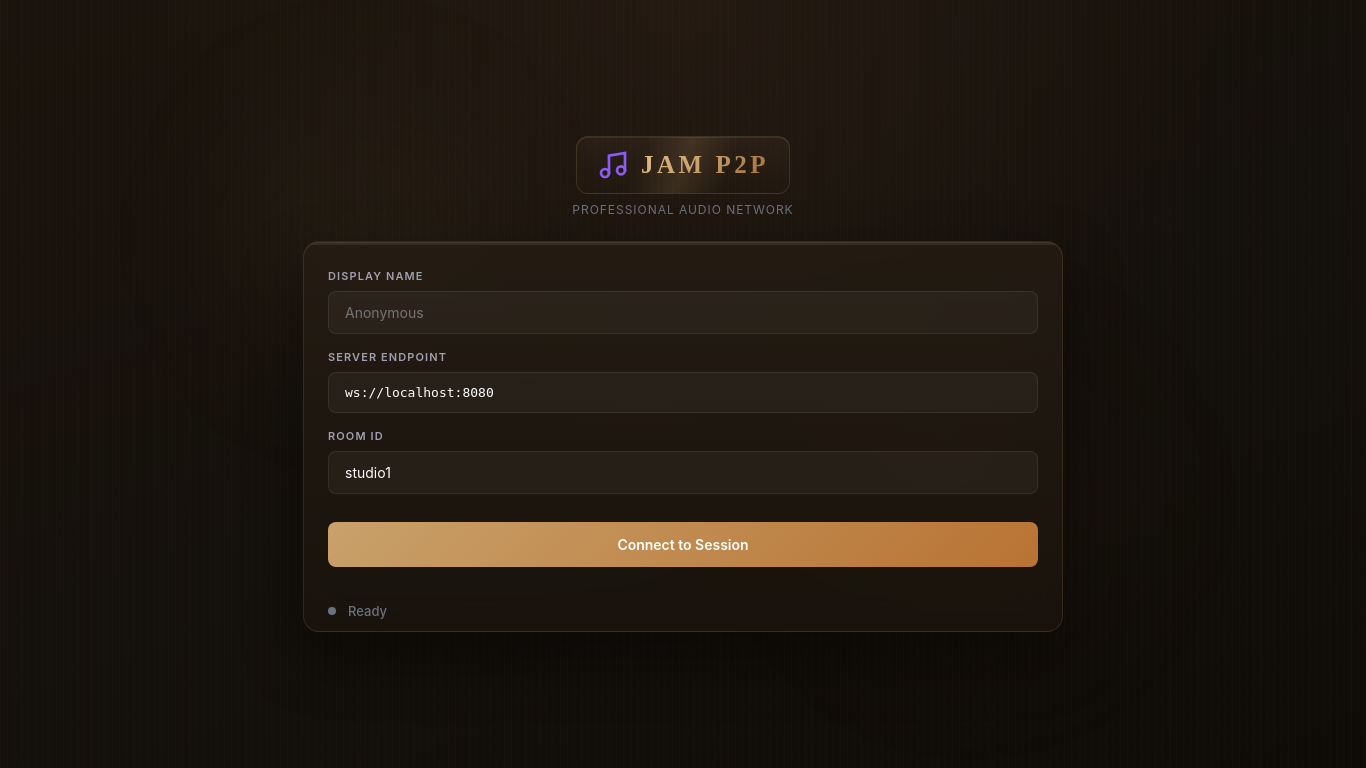
it: App — connect flow › shows error state when join_room rejects
The image size is (1366, 768).
Click the button "Connect to Session" at (683, 544), box [328, 522, 1038, 567]
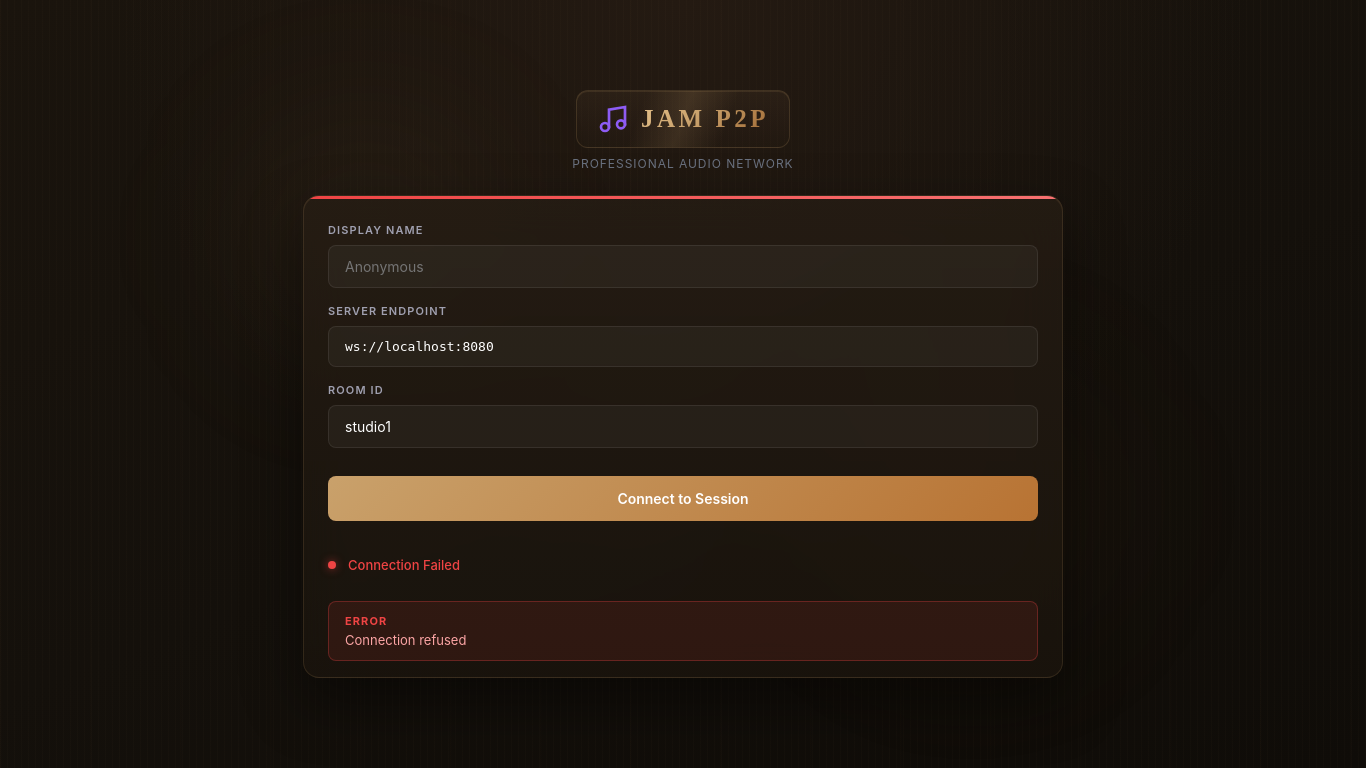
Expected: the text "ERROR" is shown, [345, 614, 387, 628]
Expected: the text "Connection refused" is shown, [345, 632, 466, 648]
